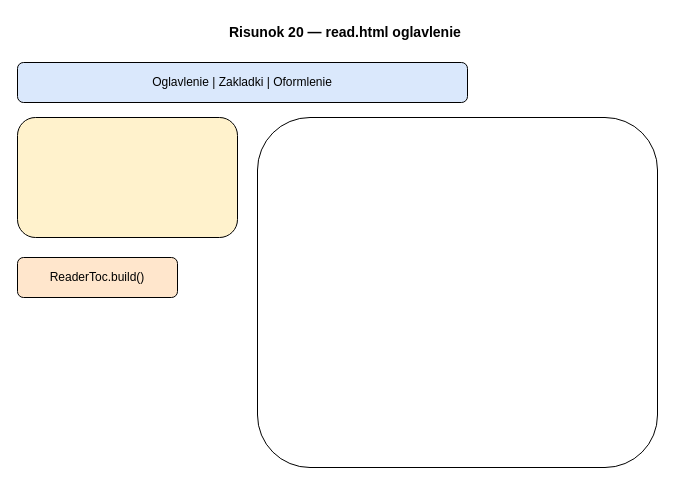
Image size: 675x485. Some labels were removed from this diagram. Here are the shapes that lost their labels. From the top down, the centre of each, then its label:
At pixel 127 177: "reader-toc-panel Glava 1 [Pereiti] Vvedenie [Pereiti]".
At pixel 457 292: "tekst stranicy knigi".
